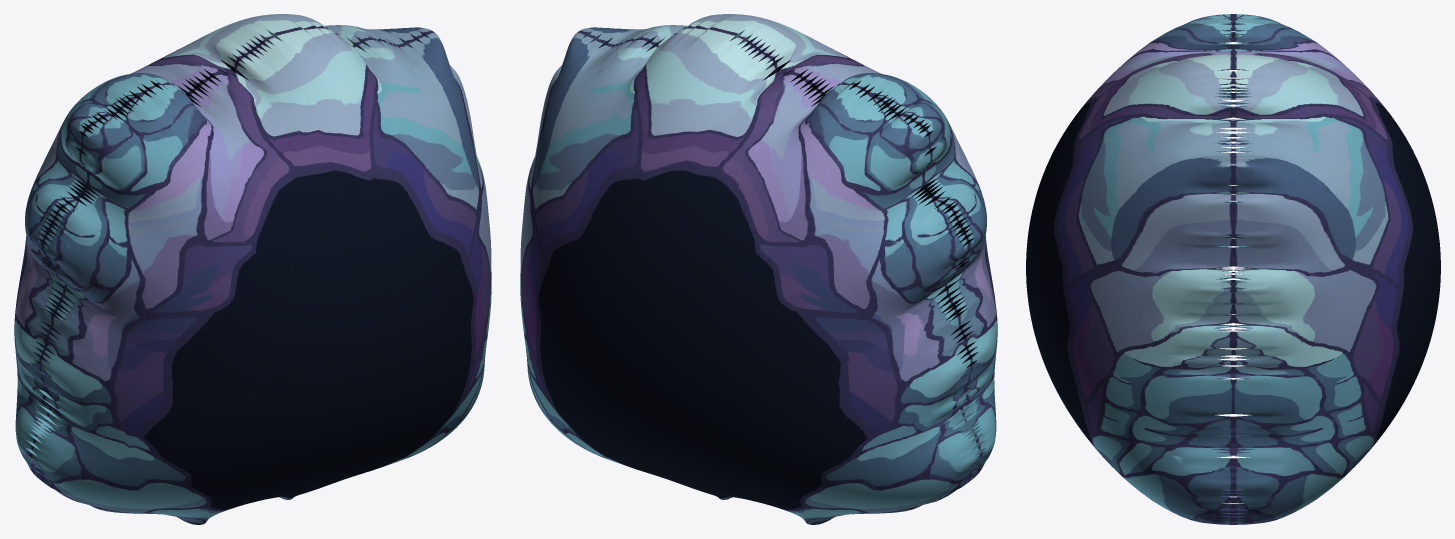
The model's file is cave_arch.glb.
3 renders of one model, left to right at view 1: azimuth 30°, elevation 25°; view 2: azimuth 150°, elevation 25°; view 3: azimuth 270°, elevation 25°, orthographic. The views are drawn at different scales.
Parts seen in each view (by area): view 1: cave_arch; view 2: cave_arch; view 3: cave_arch.
Part boxes in pixels (<box>): cave_arch: <box>14,14,491,524</box>; cave_arch: <box>520,14,997,524</box>; cave_arch: <box>1026,14,1440,524</box>.
Bounding box in the file's own units: 0.9889 × 0.9444 × 0.8568.
1 material, 1 textured.
